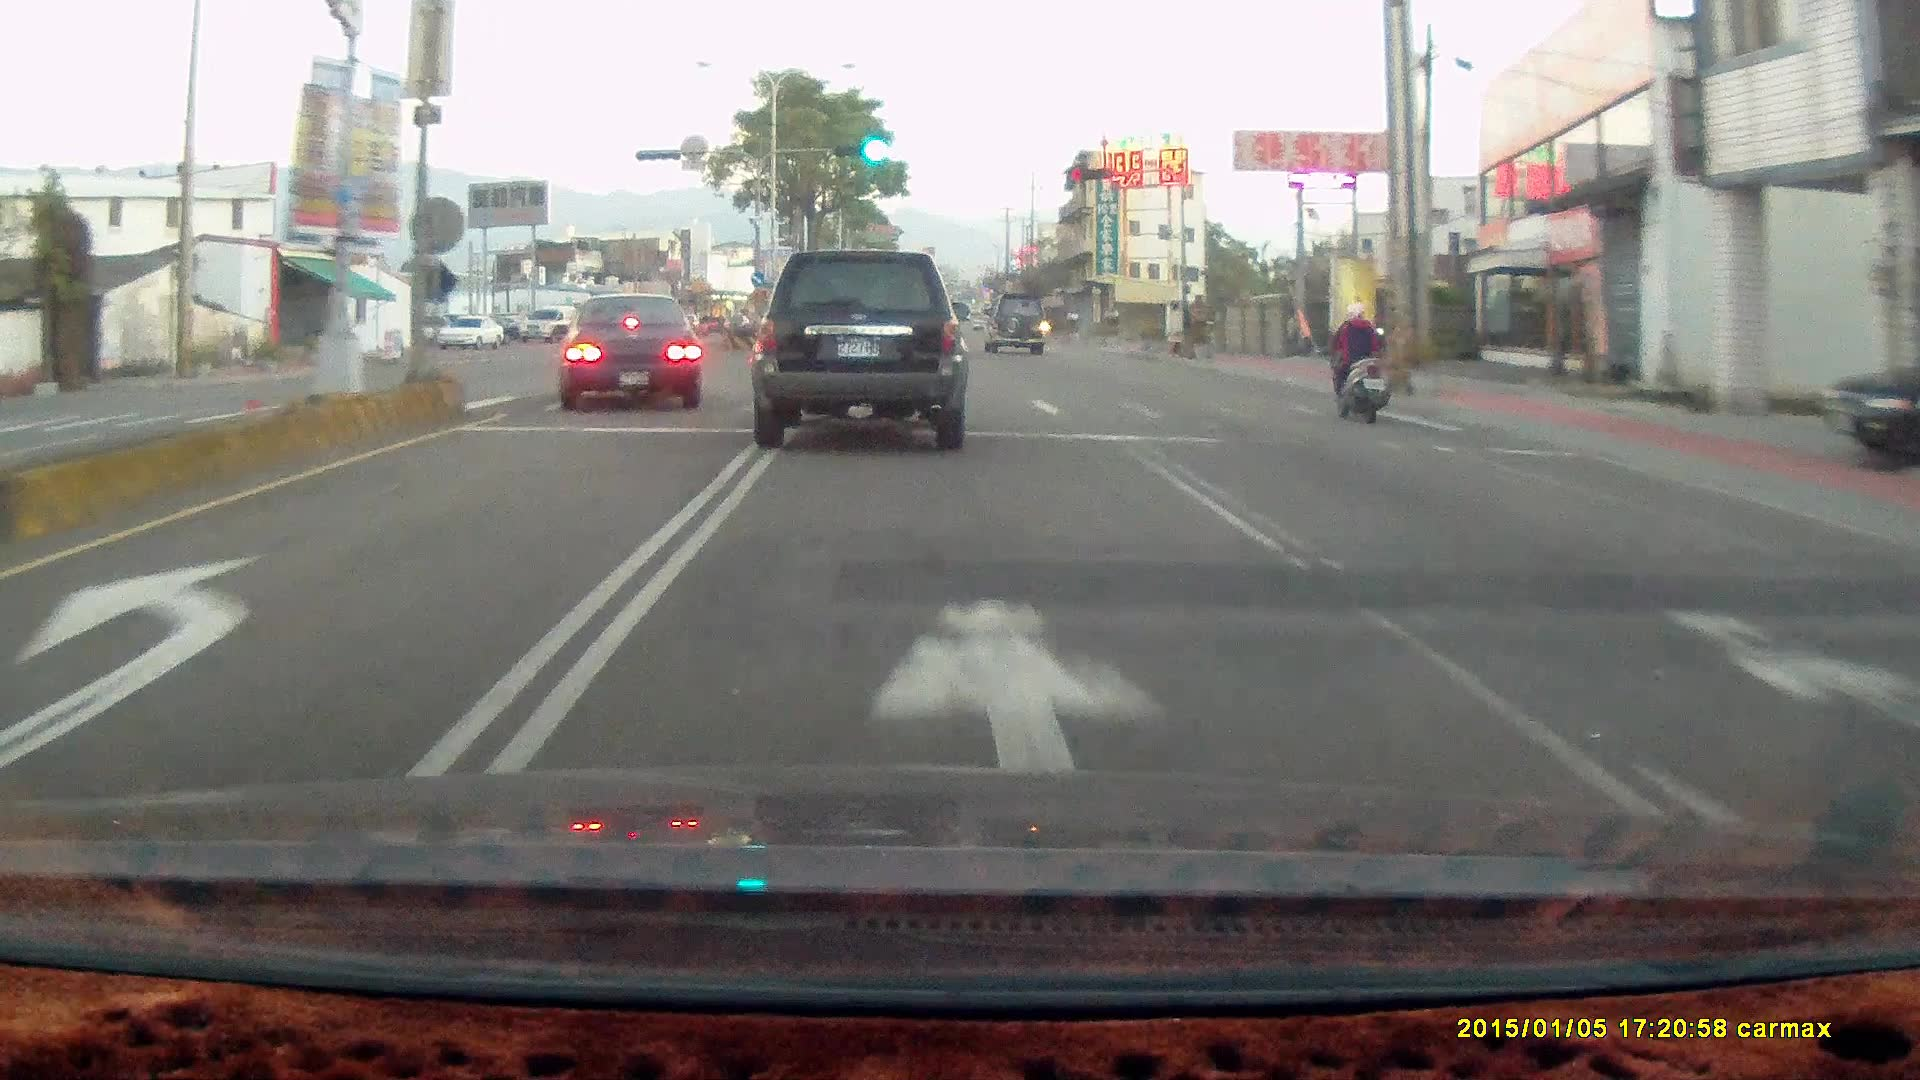rider: (1313, 288, 1405, 435), (1321, 298, 1388, 423)
vehicle: (744, 236, 973, 446), (746, 250, 968, 448), (554, 286, 708, 410), (549, 291, 701, 408), (1816, 339, 1920, 472), (1815, 338, 1919, 471), (983, 291, 1051, 356), (980, 287, 1047, 352), (435, 312, 504, 347), (519, 306, 584, 342)
